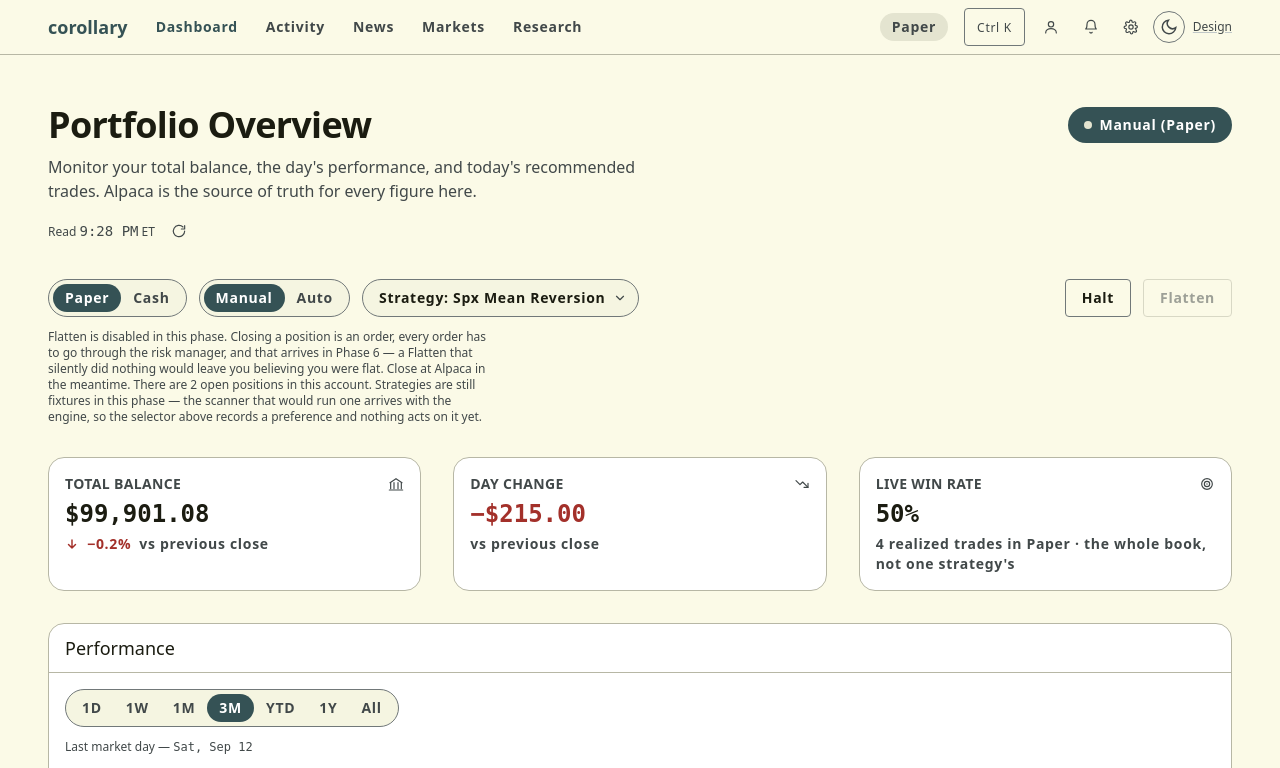
Test: Halt and Resume are real engine state › says so in error when the halt request fails
Click the button "Halt" at point(1098, 298), box [1065,279,1131,317]
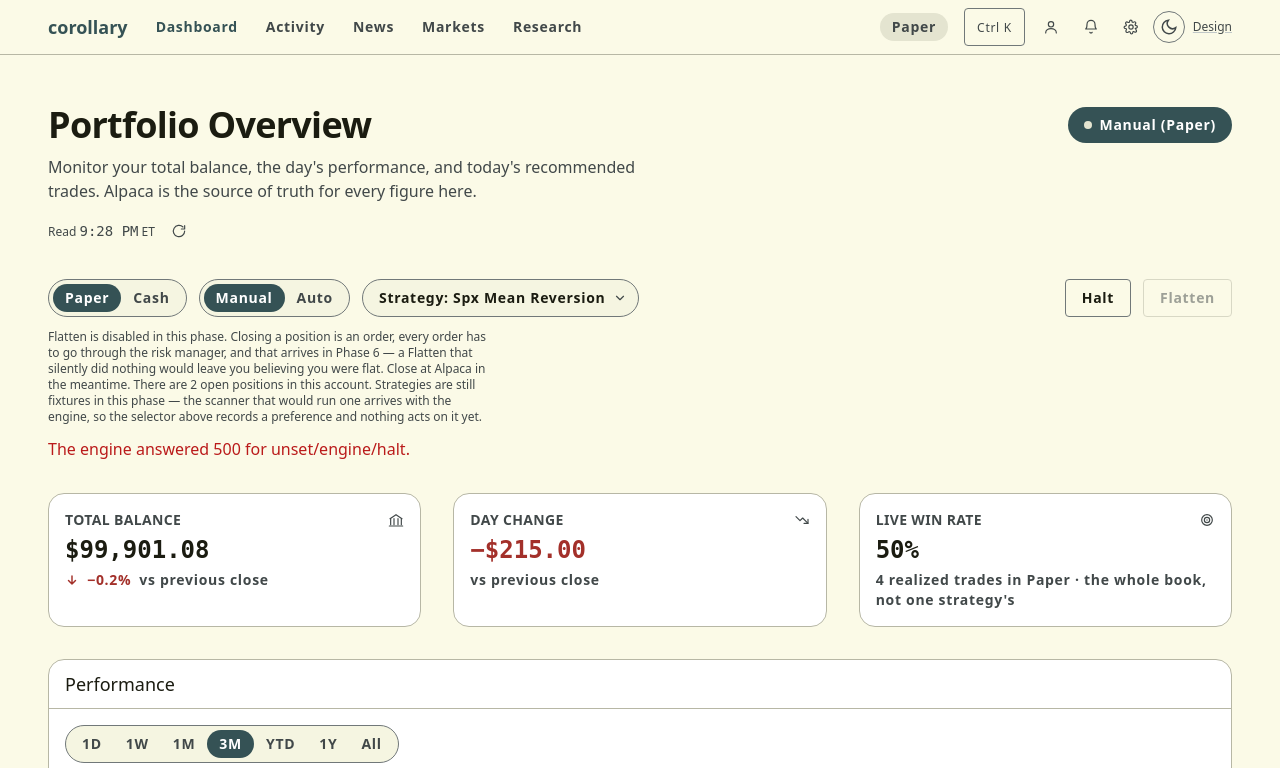
Result: the message "The engine answered 500 for unset/engine/halt." is shown at [48,438,410,460]
